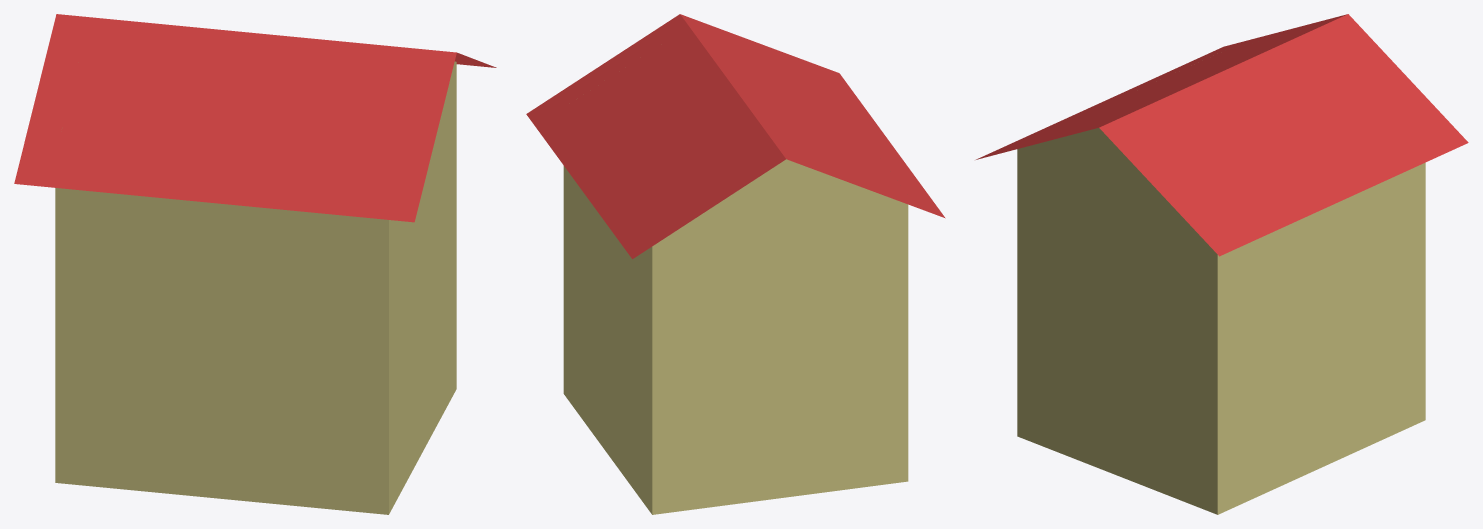
The picture shows the model from 3 angles, left to right: view 1: azimuth 30°, elevation 25°; view 2: azimuth 150°, elevation 25°; view 3: azimuth 270°, elevation 25°; orthographic projection. The views are drawn at different scales.
Bounding box in the file's own units: 8.11 × 8.08 × 6.46.
